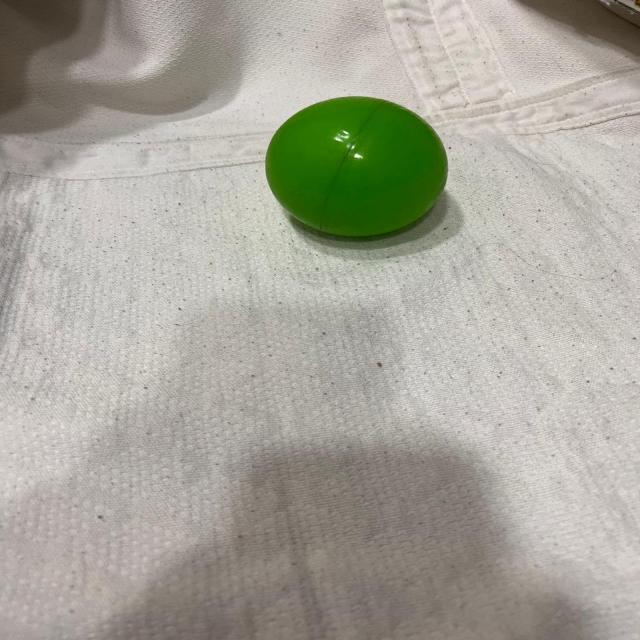ball: (260, 94, 453, 242)
